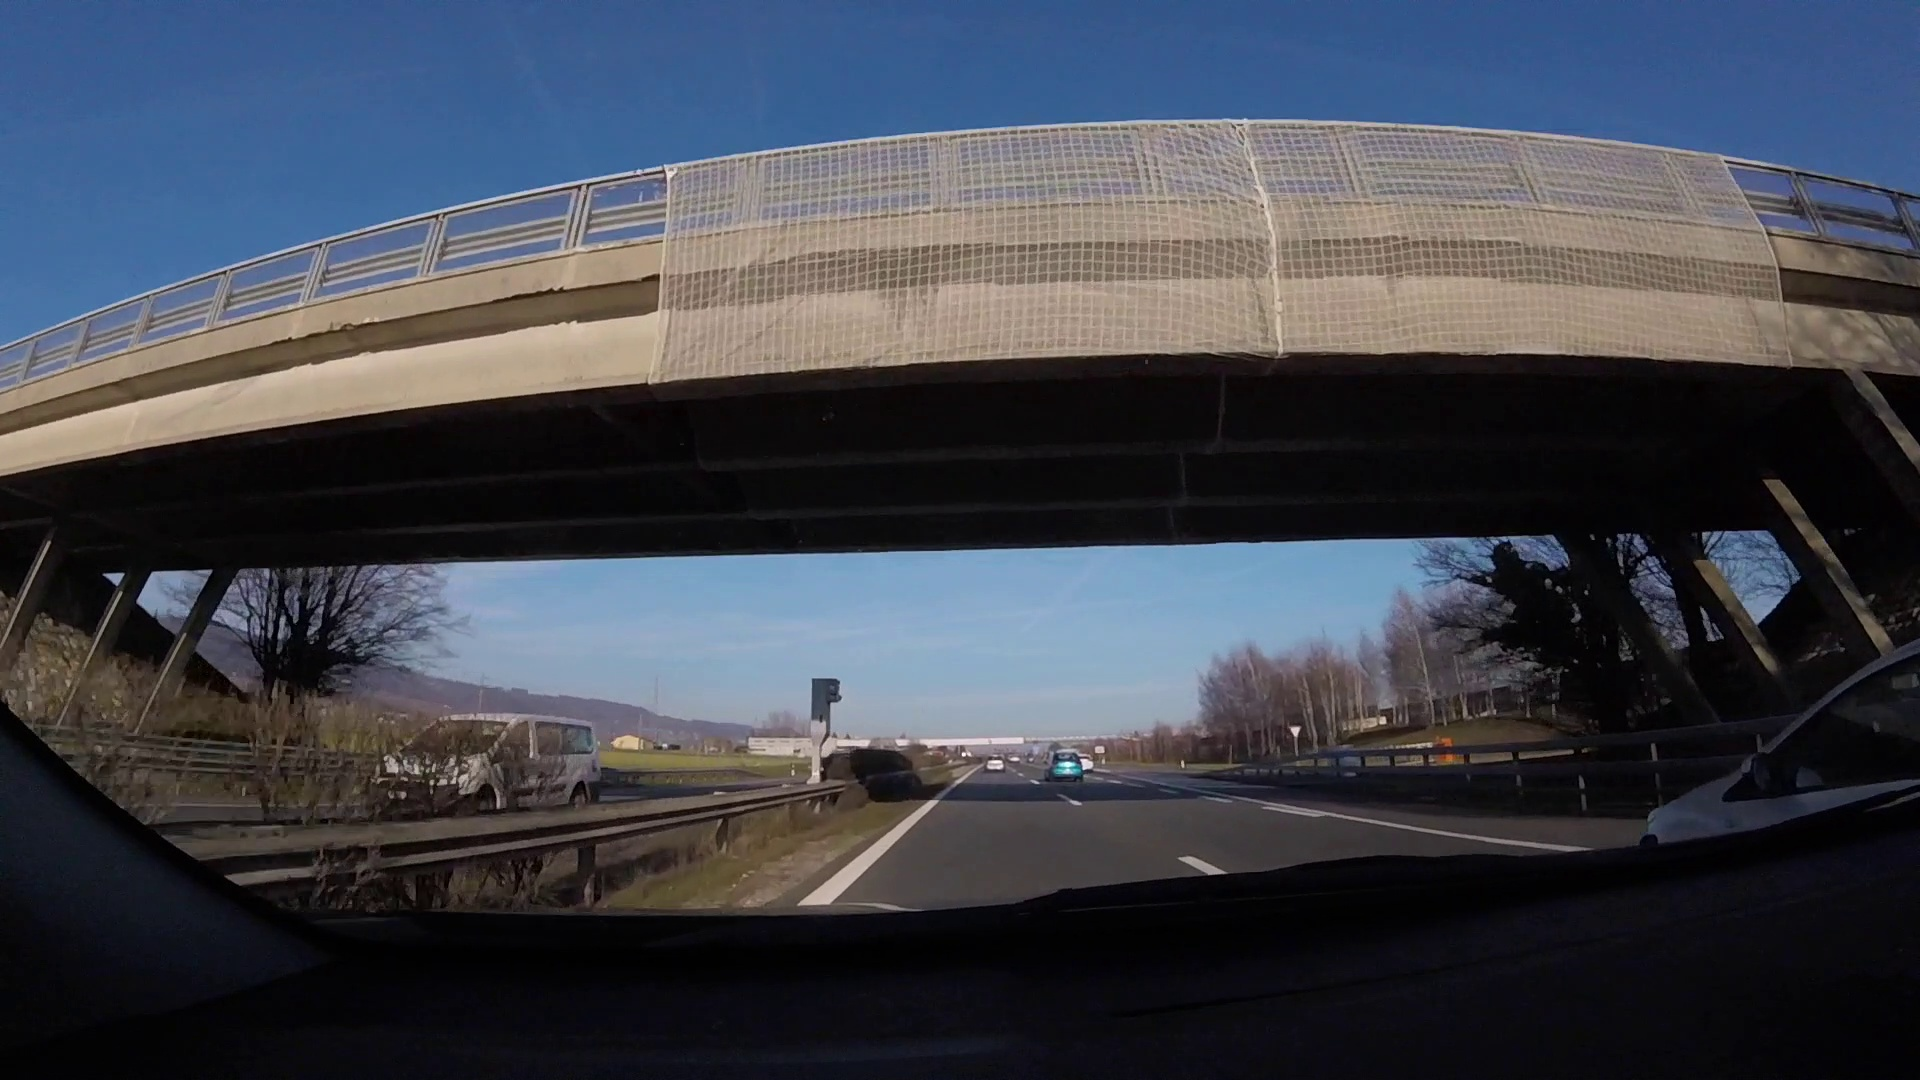radar: (808, 676, 844, 775)
